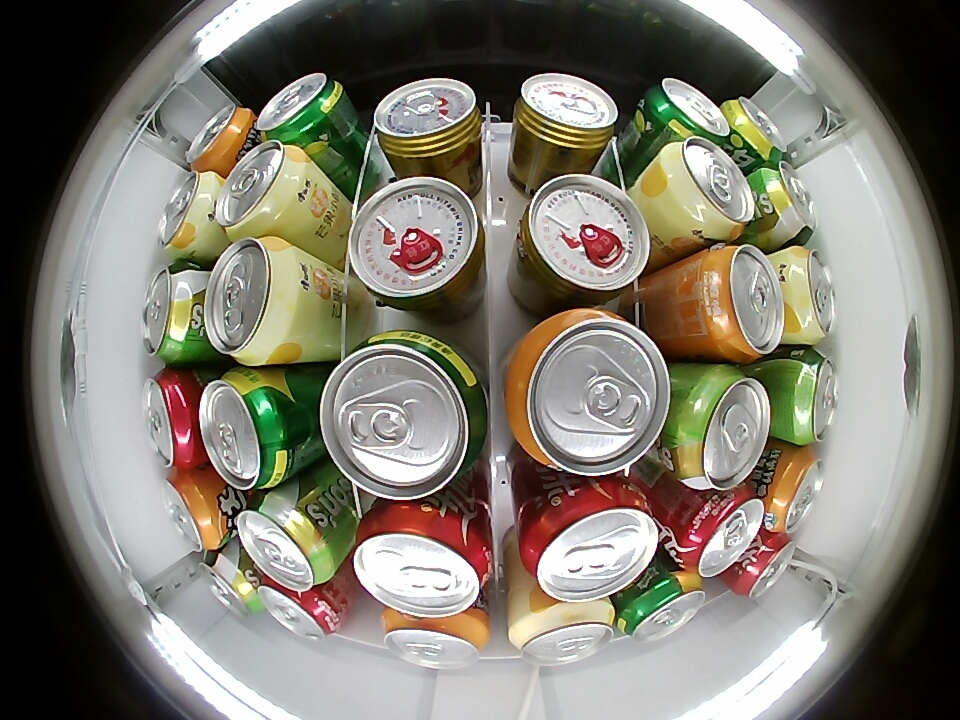fenda: (505, 309, 672, 477), (695, 242, 785, 362), (382, 609, 489, 671), (764, 446, 825, 535), (161, 471, 221, 551), (186, 103, 253, 173)
hongniu: (348, 175, 485, 309), (515, 173, 650, 303)
hongniu2: (373, 77, 483, 166), (514, 73, 618, 157)
kele: (519, 482, 660, 602), (351, 504, 492, 618), (674, 484, 763, 578), (142, 369, 200, 468), (258, 578, 342, 641), (735, 533, 798, 600)
mangguoxiaolao: (204, 236, 305, 366), (655, 137, 756, 242), (215, 140, 312, 238), (509, 598, 617, 666), (157, 171, 220, 257), (781, 246, 836, 344)
quchenshixiangcao: (674, 366, 771, 491), (236, 493, 335, 592), (141, 263, 201, 363), (784, 349, 839, 445), (757, 161, 817, 244), (199, 552, 262, 618)
xuebi2: (319, 330, 489, 500), (200, 368, 301, 490), (257, 72, 351, 146), (616, 570, 705, 643), (638, 78, 727, 143), (723, 96, 787, 165)
